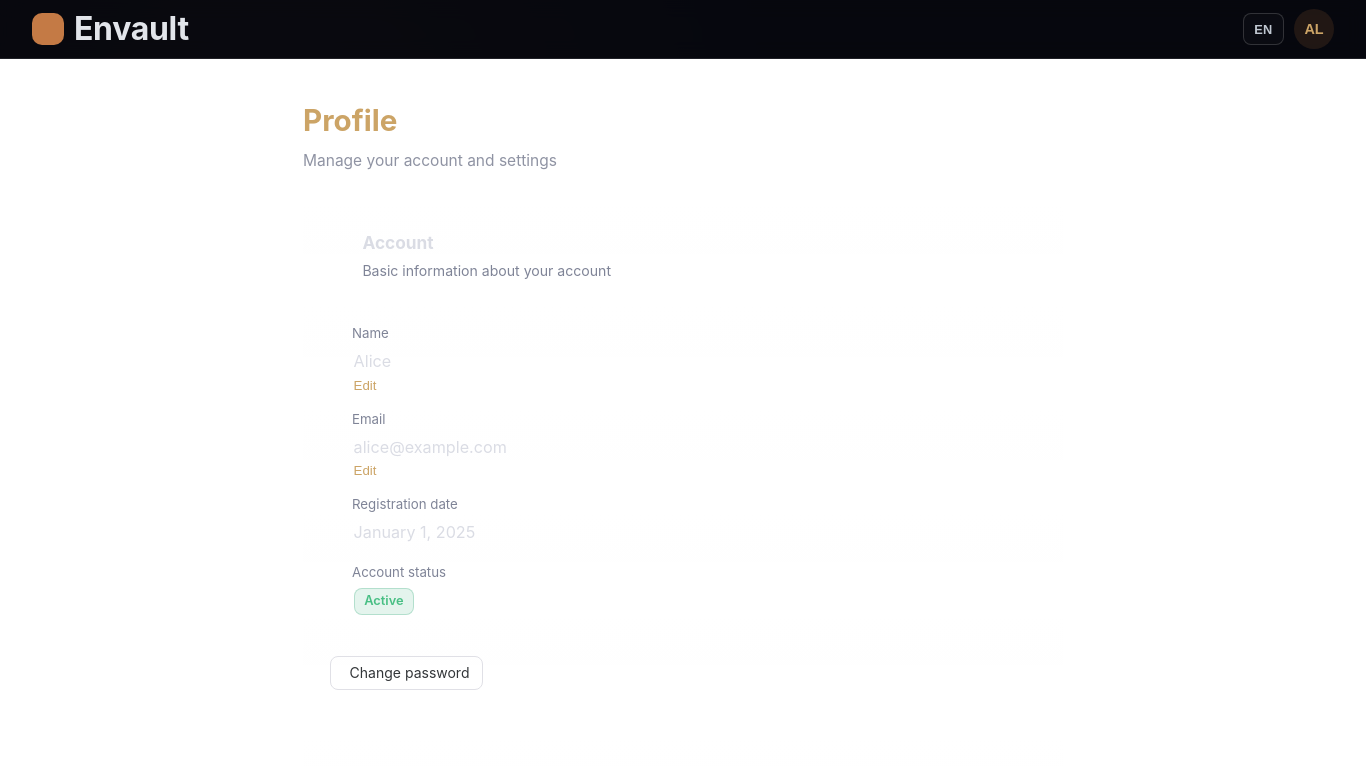
it: ProfileView.vue › name form › shows an error message when the update fails
Click the button with class "edit-link" below "Name".
click(365, 385)  # box 354,378 -> 376,393
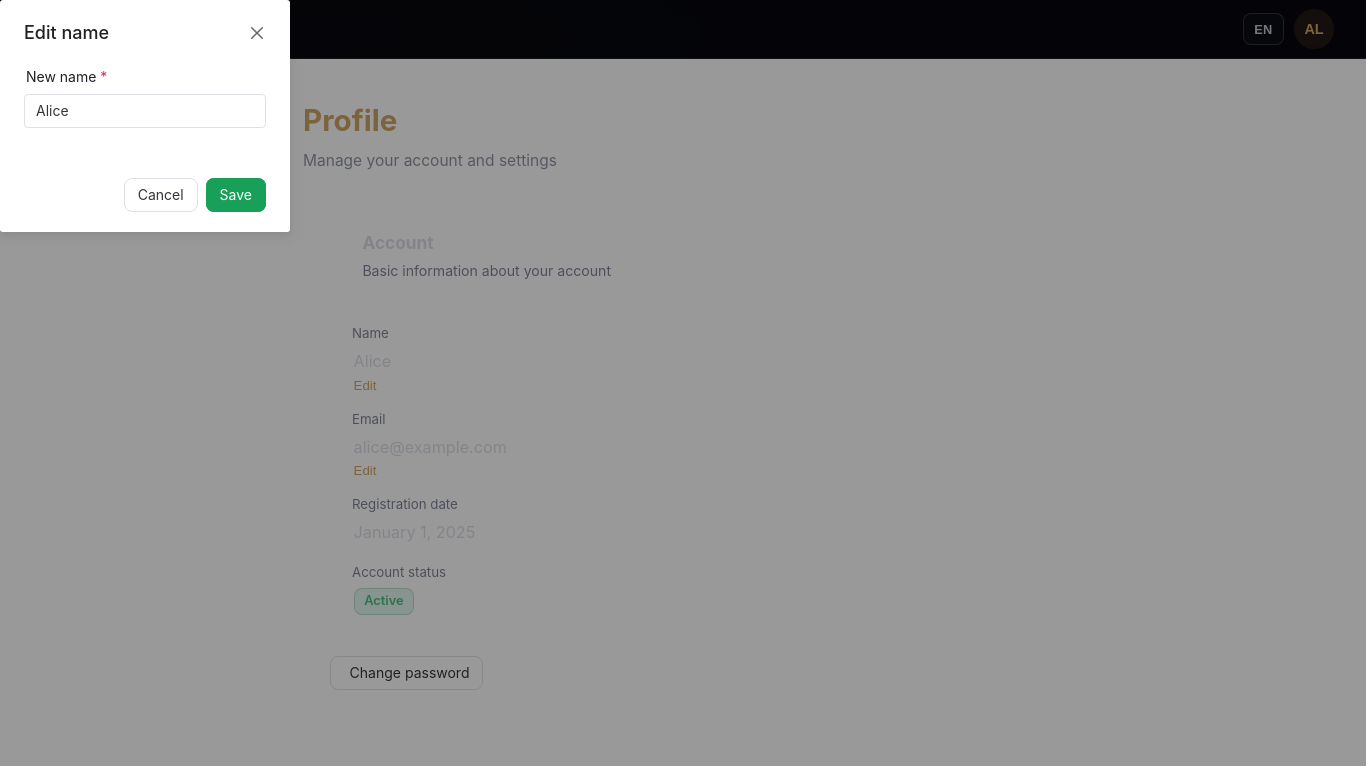
Replace the text in the field with "Alicia" at (145, 111), box 36,94 -> 254,128
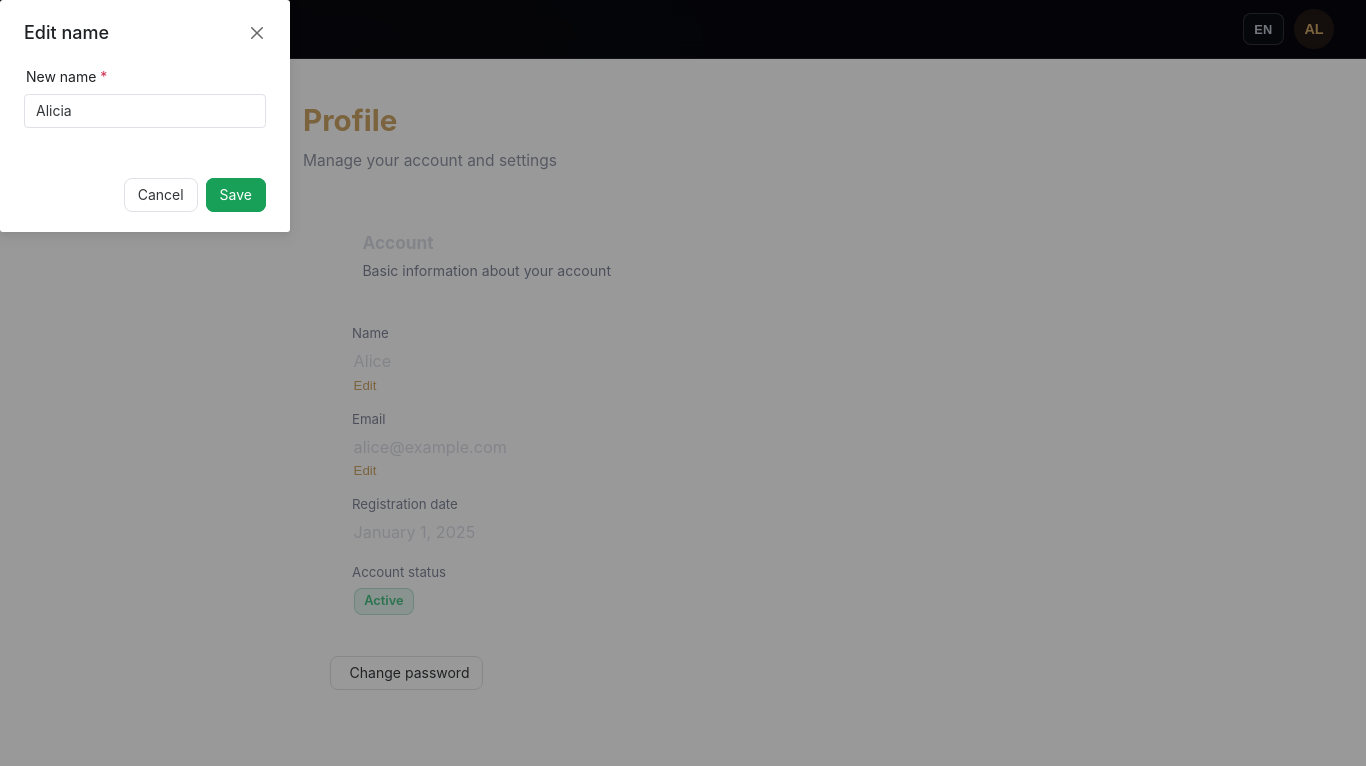
Click the button "Save".
click(236, 195)  # box 206,178 -> 266,212
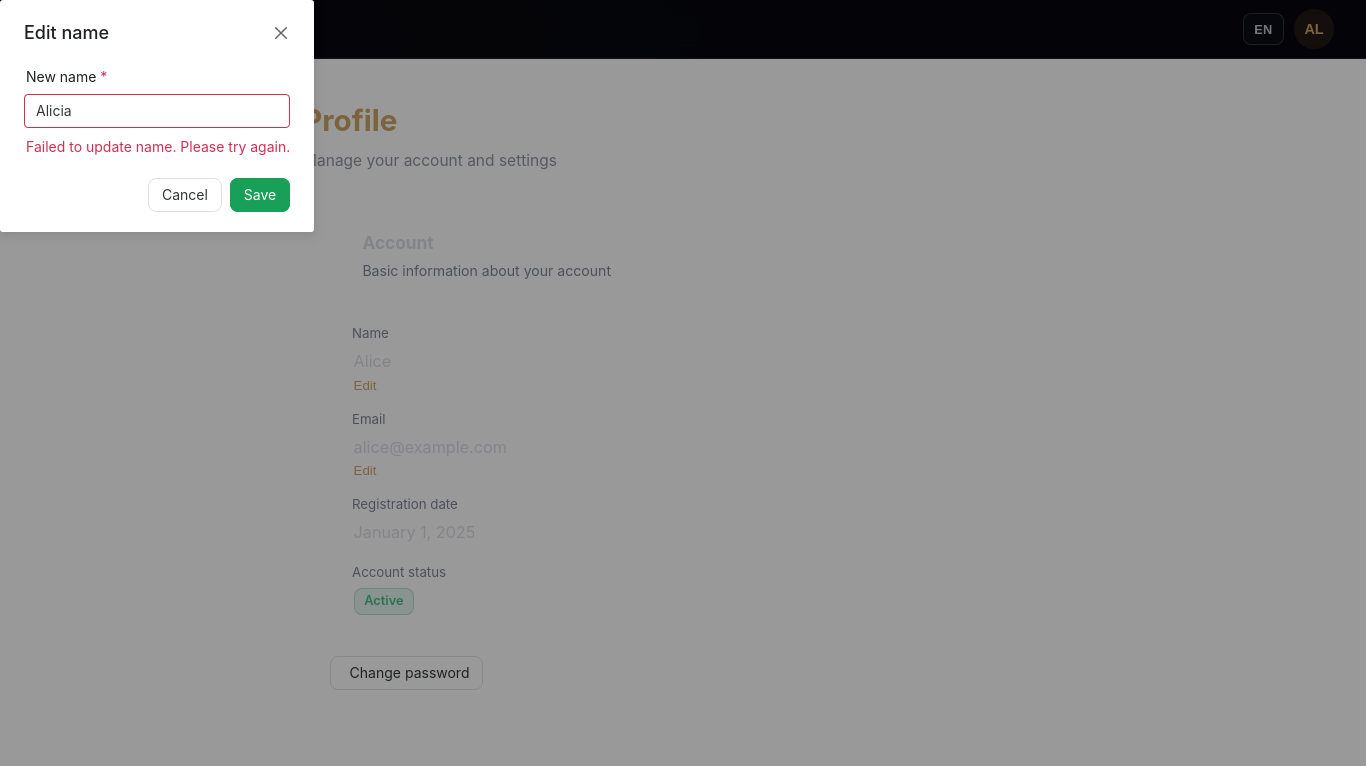
Now the text "Failed to update name" is shown, box 26,138 -> 290,155
